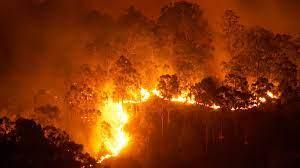fire: (95, 112, 132, 148), (138, 85, 156, 103)
